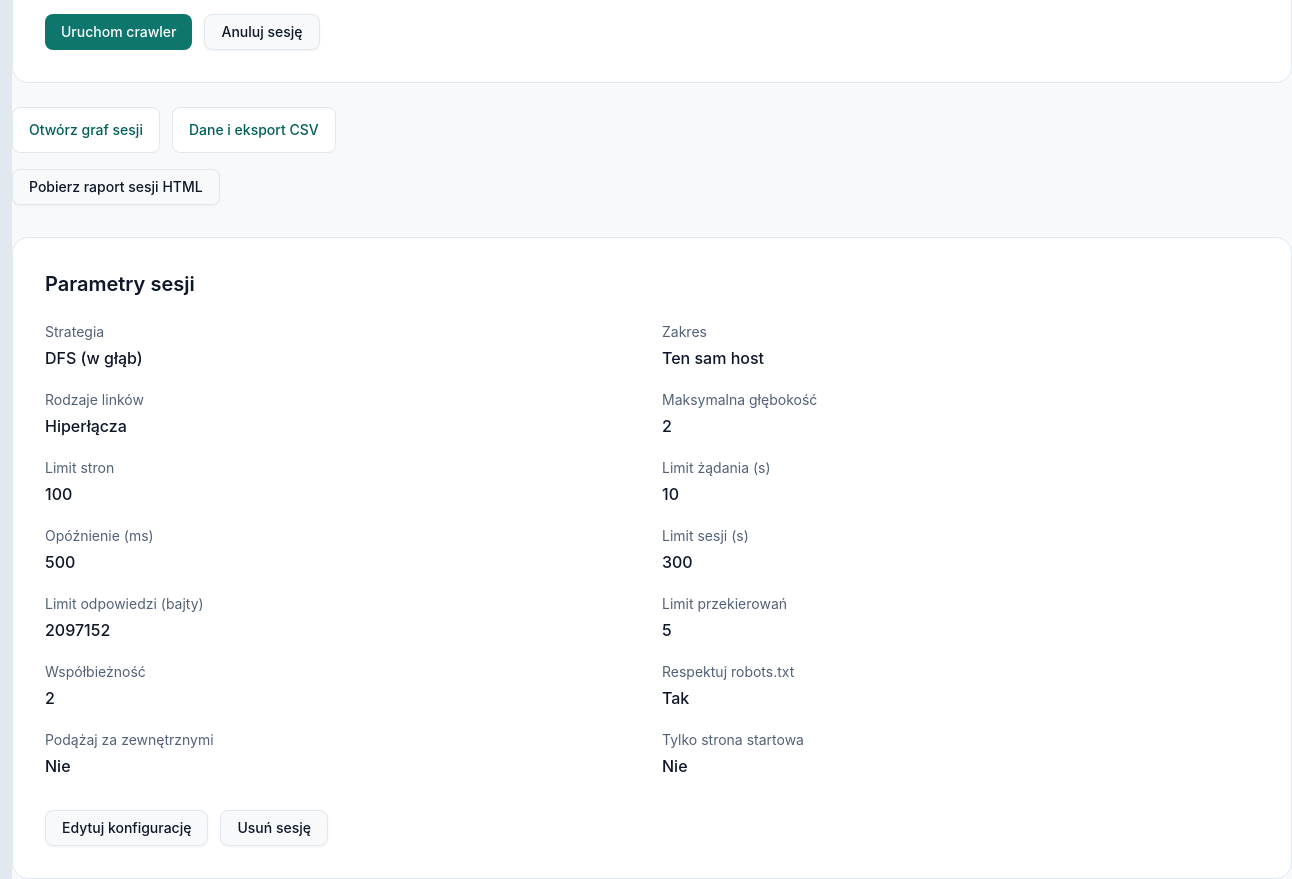
Scenario: sessions UI › edits stored config and displays returned state
(page scrolled)
Click the button "Edytuj konfigurację". click: (127, 828)
box: [45,810,208,846]
(page scrolled)
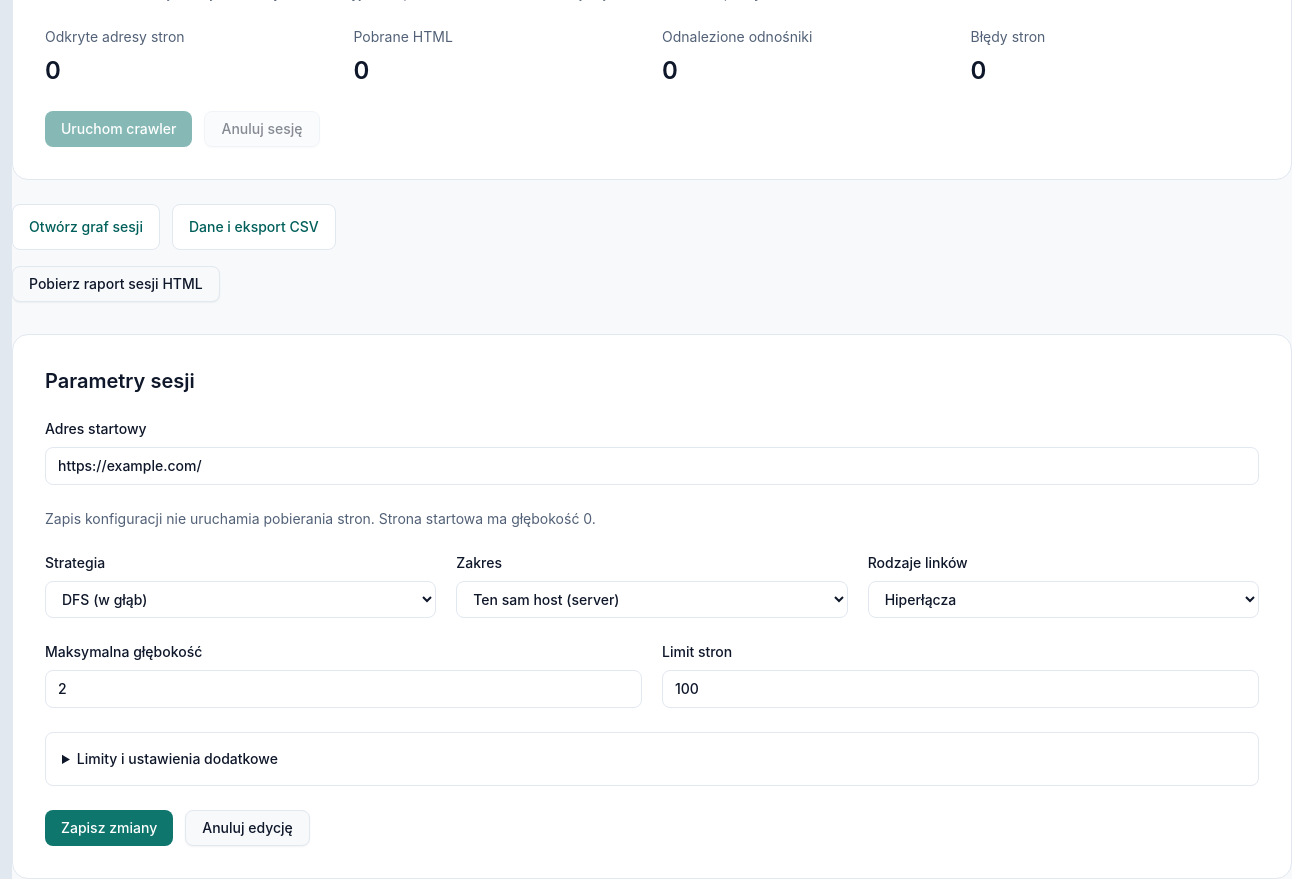
Check: the number field labelled "Maksymalna głębokość" holds "2", box [45,670,642,708]
Replace the text in the number field labelled "Limit stron" with "42". click: (960, 689)
box: [662,670,1259,708]
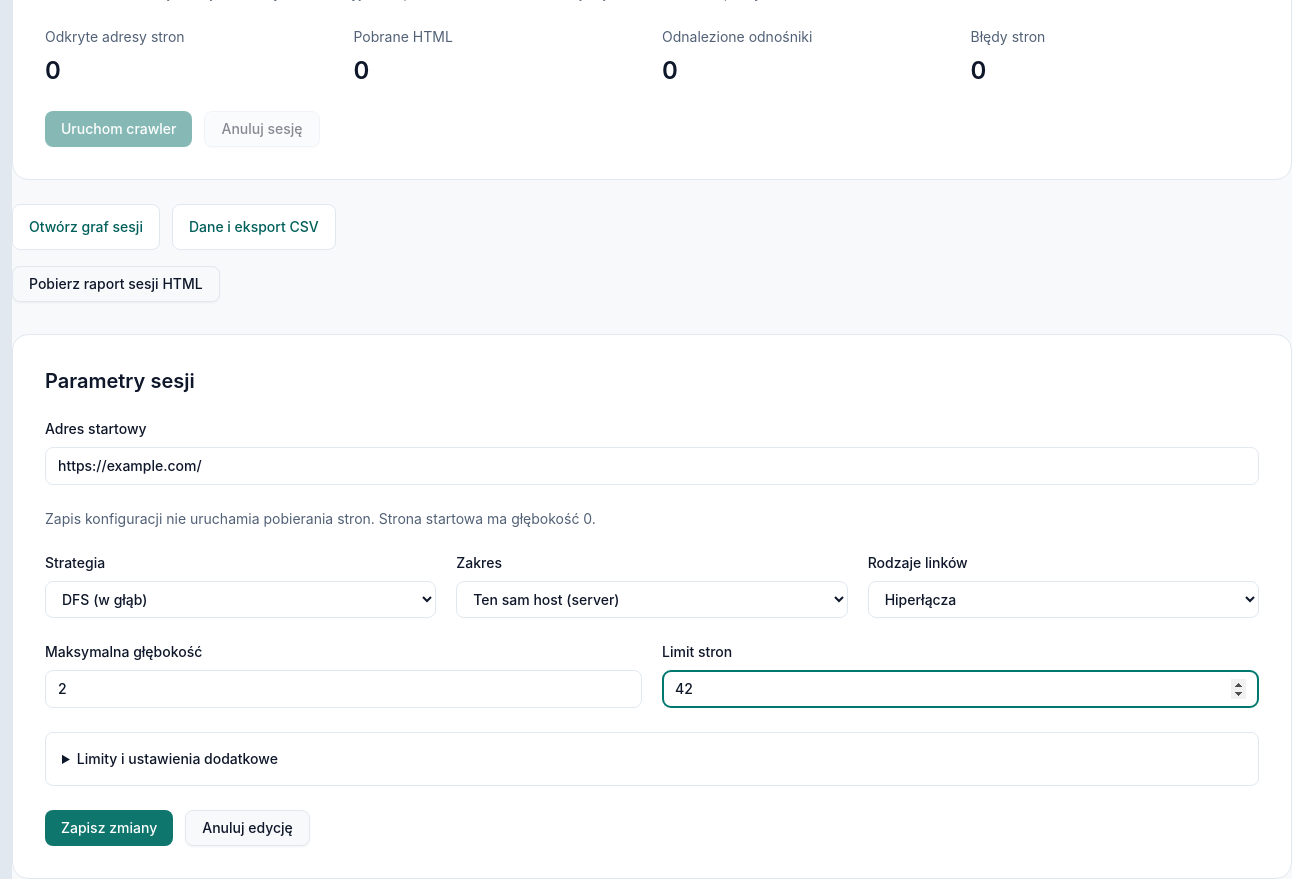
Click the button "Zapisz zmiany". click: (109, 828)
box: [45,810,173,846]
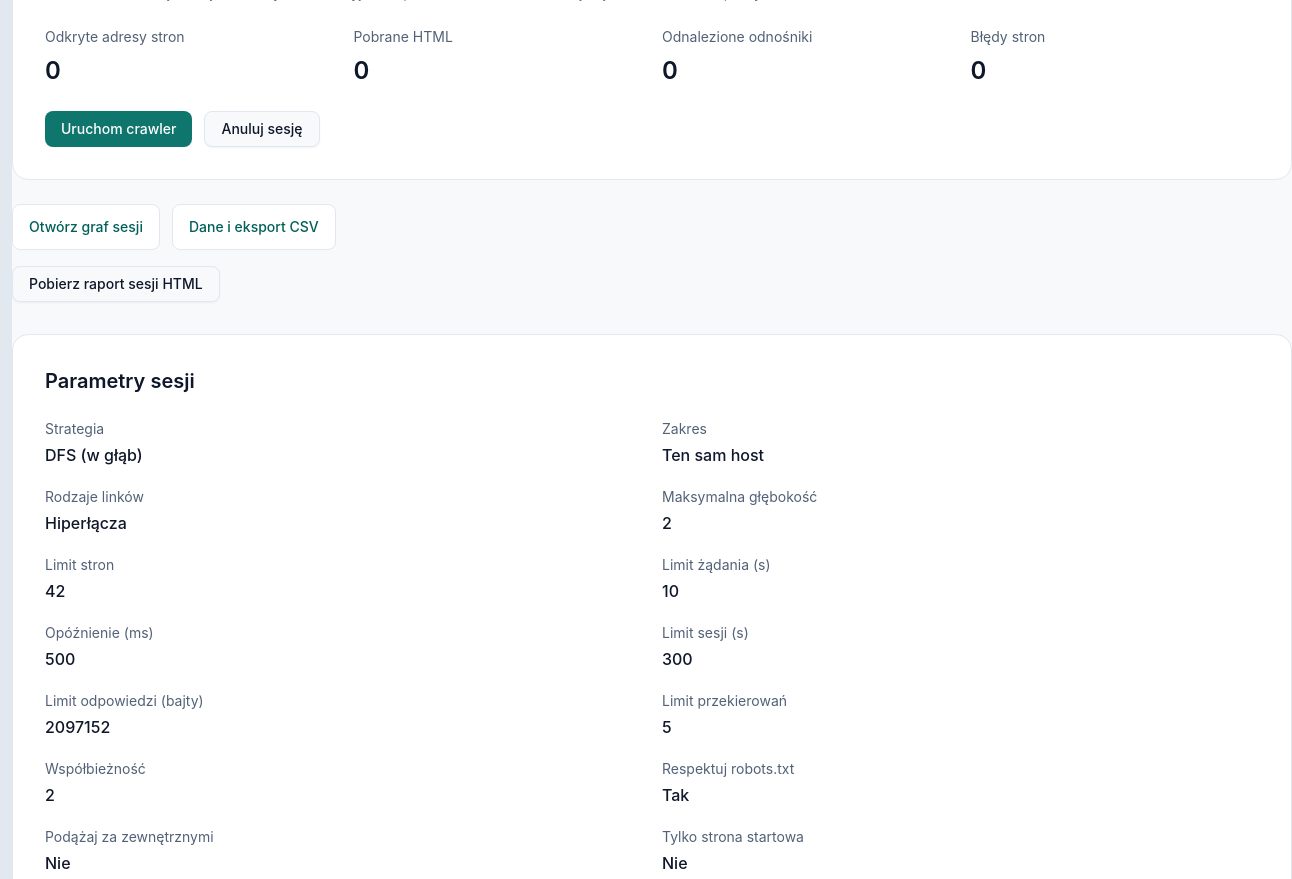
Check: the text "42" is shown, box [45,581,65,601]
